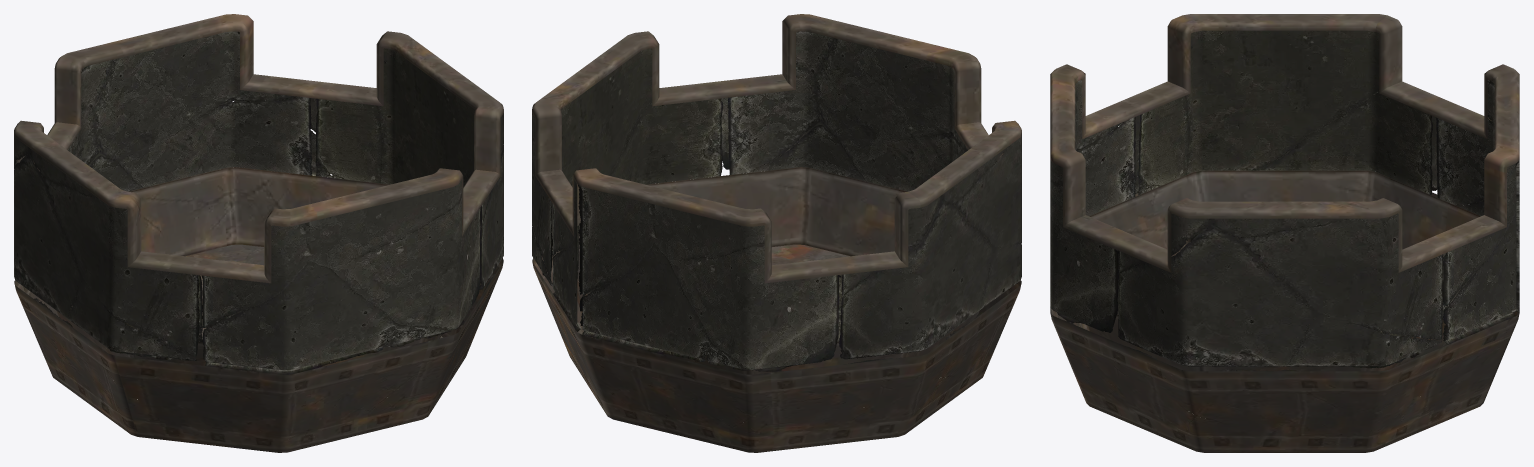
The picture shows the model from 3 angles, left to right: view 1: azimuth 30°, elevation 25°; view 2: azimuth 150°, elevation 25°; view 3: azimuth 270°, elevation 25°; orthographic projection. The views are drawn at different scales.
Visible parts, largest first — view 1: SM_Greathall_Corner_04_LOD0; view 2: SM_Greathall_Corner_04_LOD0; view 3: SM_Greathall_Corner_04_LOD0.
Boxes of the visible parts, <box> form: SM_Greathall_Corner_04_LOD0: <box>14,14,503,452</box>; SM_Greathall_Corner_04_LOD0: <box>532,14,1021,452</box>; SM_Greathall_Corner_04_LOD0: <box>1050,14,1519,452</box>.
Bounding box in the file's own units: 2.95 × 1.78 × 2.95.
Materials: 3 (3 with a texture image).
